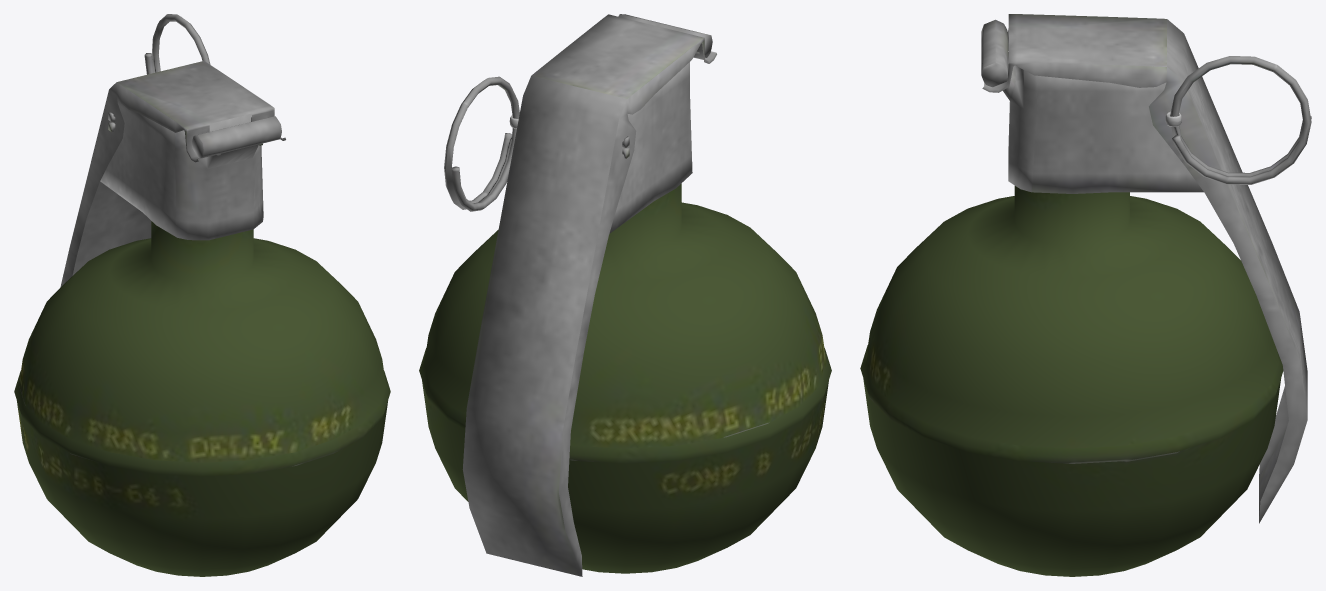
File: grenade.glb
3 views of the same model, side by side, from view 1: azimuth 30°, elevation 25°; view 2: azimuth 150°, elevation 25°; view 3: azimuth 270°, elevation 25° (orthographic). The views are drawn at different scales.
Parts seen in each view (by area): view 1: m; view 2: m; view 3: m.
Part boxes in pixels (x1,y1,x2,y2): m: [14, 14, 390, 576]; m: [419, 14, 831, 576]; m: [860, 14, 1311, 576].
Bounding box in the file's own units: 0.0653 × 0.09 × 0.0695.
1 material, 1 textured.
